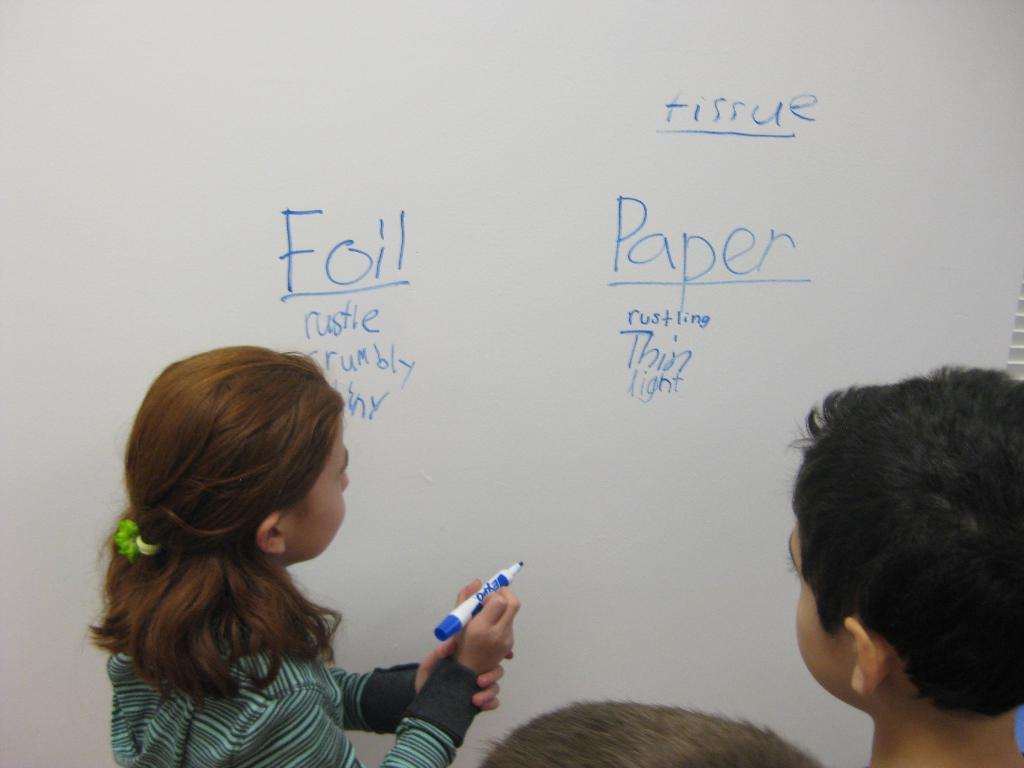Pen: (433, 563, 524, 640)
